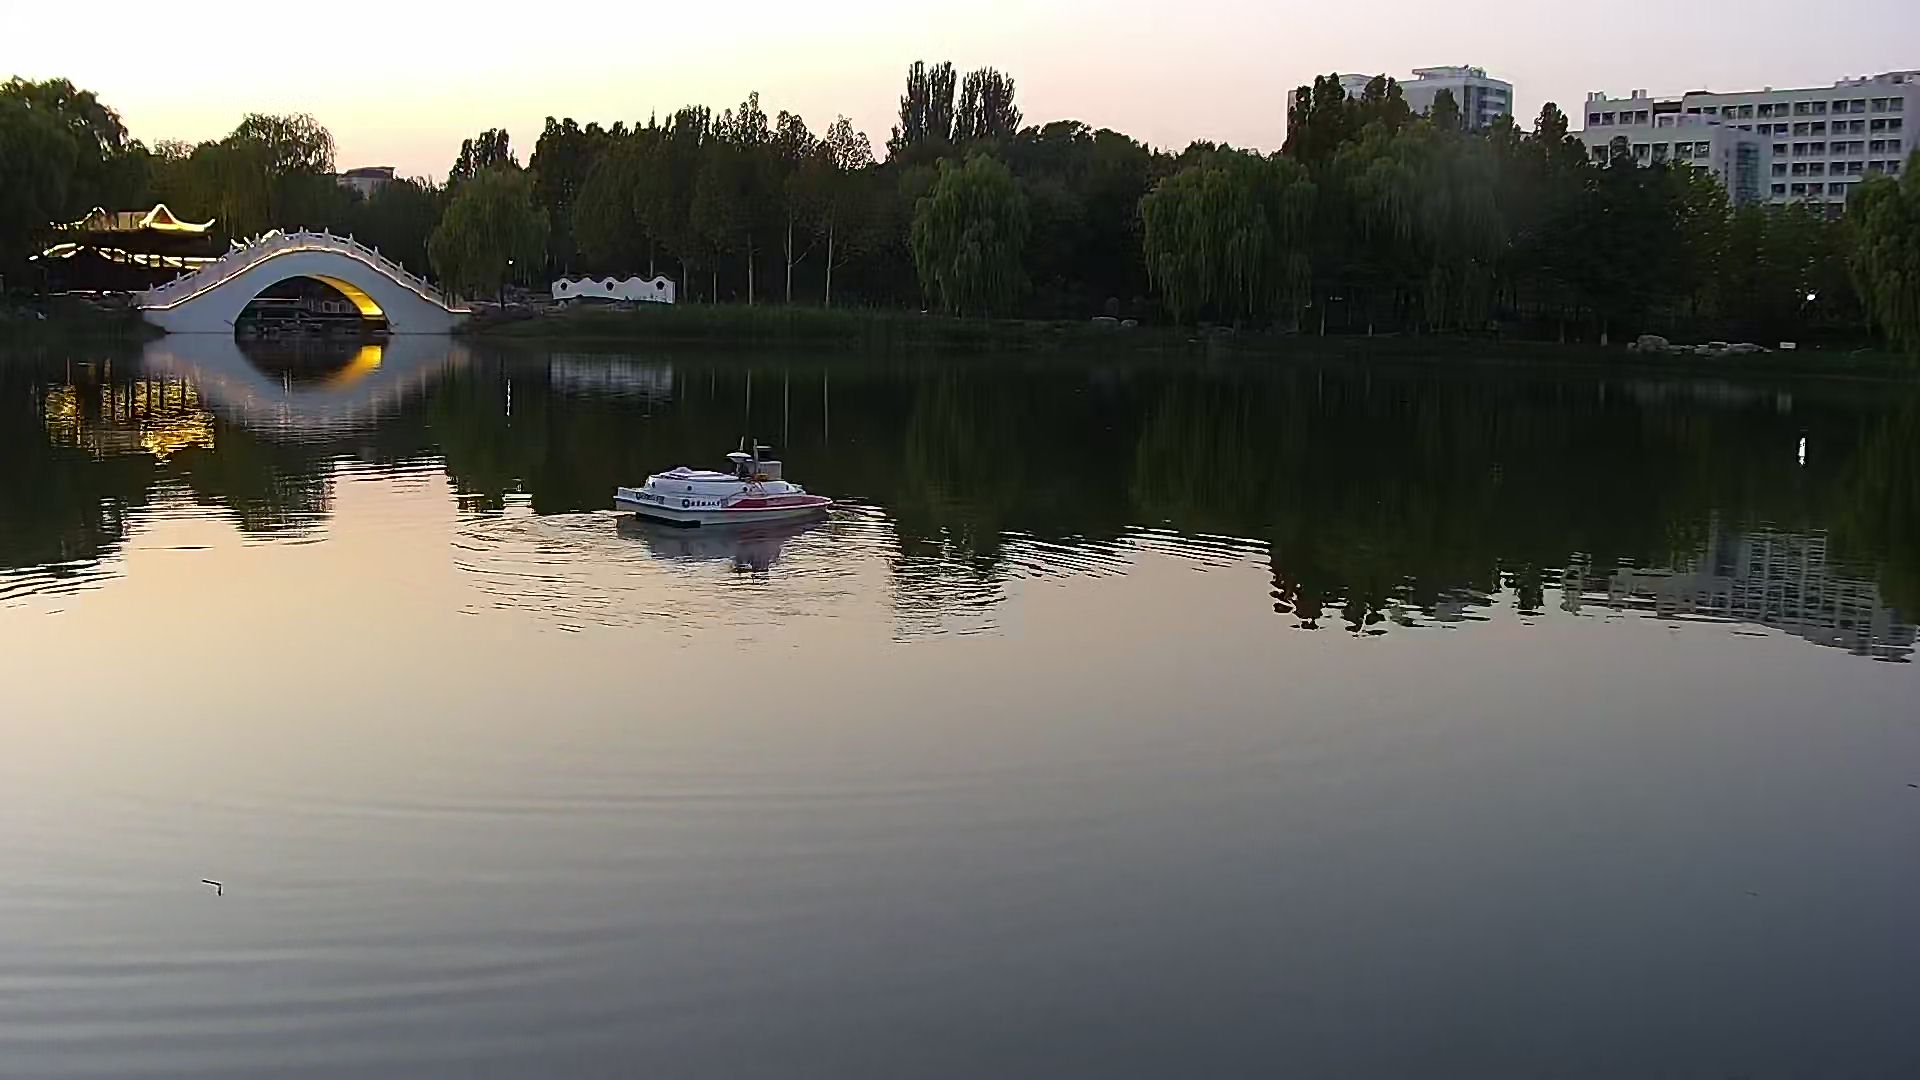boat: (607, 440, 833, 533)
bridge: (152, 232, 452, 332)
rock: (1625, 327, 1768, 364)
